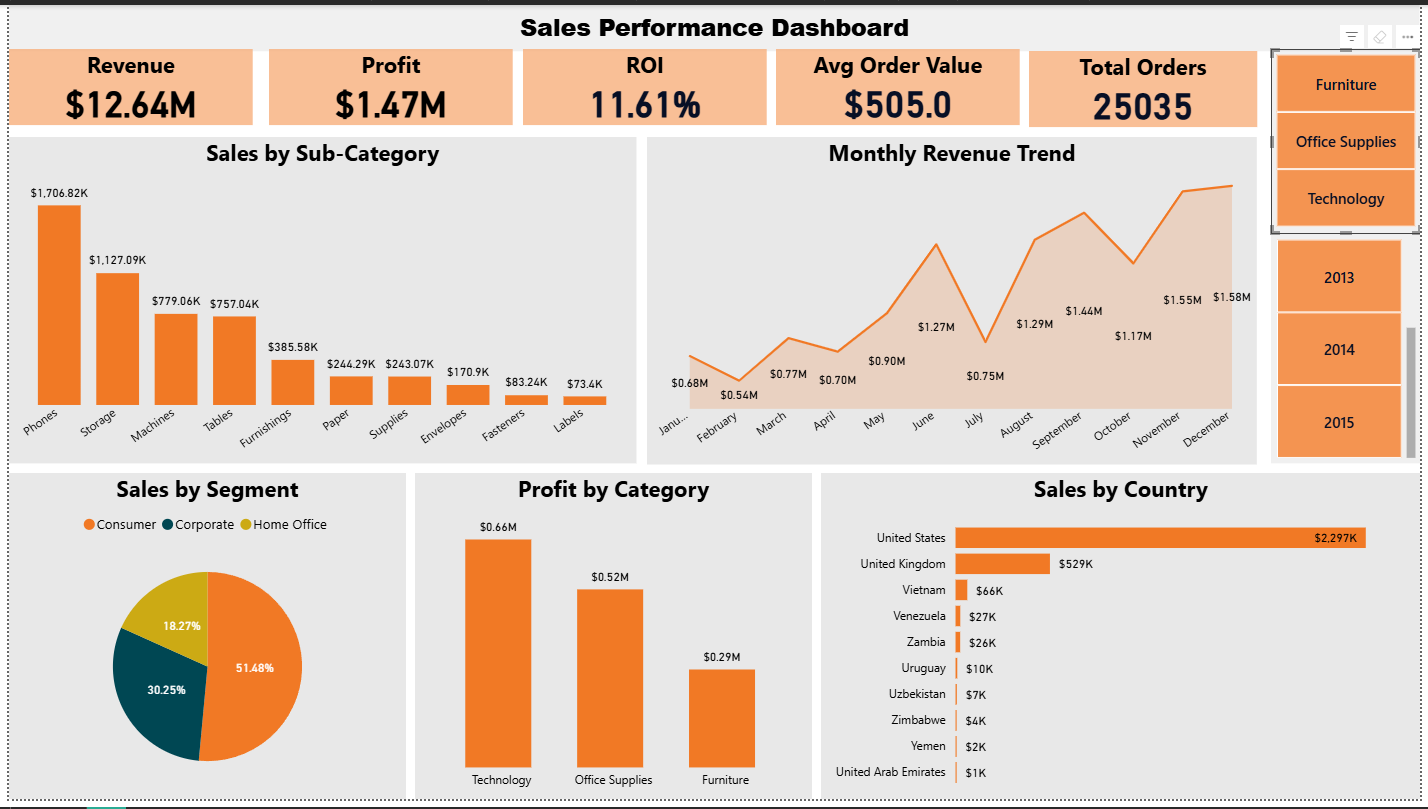

Layout of this report page (visuals, bound fields, positions):
{"tool":"powerbi","page":{"name":"Page 1","canvas":[1280,720],"ordinal":0},"visuals":[{"type":"card","title":"Revenue","fields":{"Values":["Sum(Global_Superstore2.Sales)"]},"box":[0,40,221.1,68.9],"z":0},{"type":"clusteredColumnChart","title":"Sales by Sub-Category","fields":{"Category":["Global_Superstore2.Sub-Category"],"Y":["Sum(Global_Superstore2.Sales)"]},"box":[0,120,568.7,296],"z":0,"group":"g1"},{"type":"textbox","title":"Sales Performance Dashboard","box":[0,0,1279.5,41.7],"z":1000},{"type":"stackedAreaChart","title":"Monthly Revenue Trend","fields":{"Category":["Global_Superstore2.Order Date.Variation.Date Hierarchy.Month"],"Y":["Sum(Global_Superstore2.Sales)"]},"box":[578.4,119.7,553.3,296.5],"z":1000,"group":"g1"},{"type":"card","title":"Total Orders","fields":{"Values":["Count(Global_Superstore2.Order ID)"]},"box":[924.9,41.7,206.8,68.9],"z":2000},{"type":"clusteredColumnChart","title":"Profit by Category","fields":{"Category":["Global_Superstore2.Category"],"Y":["Sum(Global_Superstore2.Profit)"]},"box":[368,424,360,296],"z":3000},{"type":"clusteredBarChart","title":"Sales by Country","fields":{"Category":["Global_Superstore2.Country"],"Y":["Sum(Global_Superstore2.Sales)"]},"box":[736.3,424.4,544.1,295.6],"z":4000},{"type":"card","title":"Avg Order Value","fields":{"Values":["Global_Superstore2.Avg Order volume"]},"box":[695.3,40,221.1,68.9],"z":5000},{"type":"advancedSlicerVisual","fields":{"Values":["Global_Superstore2.Year"]},"box":[1144,208,136,208],"z":6000},{"type":"card","title":"Profit","fields":{"Values":["Sum(Global_Superstore2.Profit)"]},"box":[235.5,40,221.1,68.9],"z":7000},{"type":"card","title":"ROI","fields":{"Values":["Global_Superstore2.ROI"]},"box":[465.9,40,221.1,68.9],"z":8000},{"type":"advancedSlicerVisual","fields":{"Values":["Global_Superstore2.Category"]},"box":[1144,40,136,168],"z":9000},{"type":"pieChart","title":"Sales by Segment","fields":{"Category":["Global_Superstore2.Segment"],"Y":["Sum(Global_Superstore2.Sales)"]},"box":[0,424,360,296],"z":10000},{"type":"group","id":"g1","title":"Group 1","box":[0,119.7,1131.7,296.5],"z":11000}]}

Visuals, with their boxes in screenshot pixels (x1, y1, x2, y2), scaled from the page's 1280x720 canvas onto the 1428x809 screenshot:
"Revenue" card: 0/45/247/122
"Sales by Sub-Category" clusteredColumnChart: 0/135/634/467
"Sales Performance Dashboard" textbox: 0/0/1427/47
"Monthly Revenue Trend" stackedAreaChart: 645/134/1263/468
"Total Orders" card: 1032/47/1263/124
"Profit by Category" clusteredColumnChart: 411/476/812/808
"Sales by Country" clusteredBarChart: 821/477/1427/808
"Avg Order Value" card: 776/45/1022/122
advancedSlicerVisual - Global_Superstore2.Year: 1276/234/1427/467
"Profit" card: 263/45/509/122
"ROI" card: 520/45/766/122
advancedSlicerVisual - Global_Superstore2.Category: 1276/45/1427/234
"Sales by Segment" pieChart: 0/476/402/808
"Group 1" group: 0/134/1263/468
